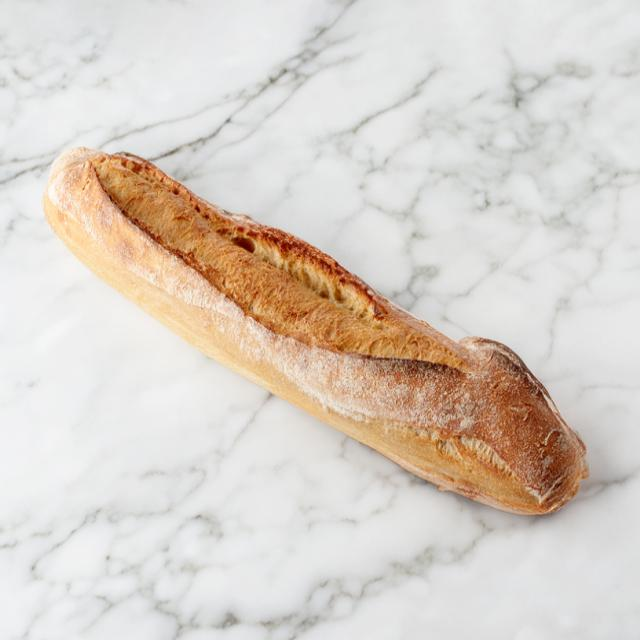Baguette: (42, 149, 585, 514)
